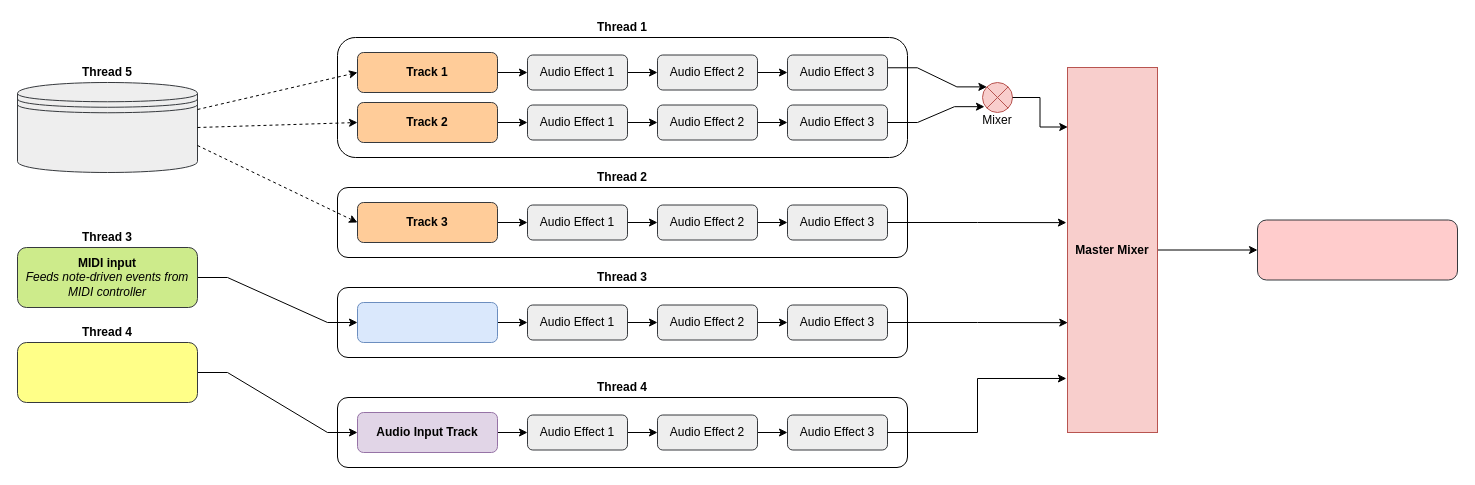
This 1475x485 diagram has some shape labels left out. The centre of each missing label's shape, as x and y in pixels:
"Audio input Sends audio samples through microphone" belongs at point (107, 372).
"Disk I/O Prefetches MIDI file, wavetable, audio FX presets, etc." belongs at point (107, 127).
"MIDI Input Track" belongs at point (427, 322).
"PortAudio Callback With no blocking calls" belongs at point (1357, 249).
